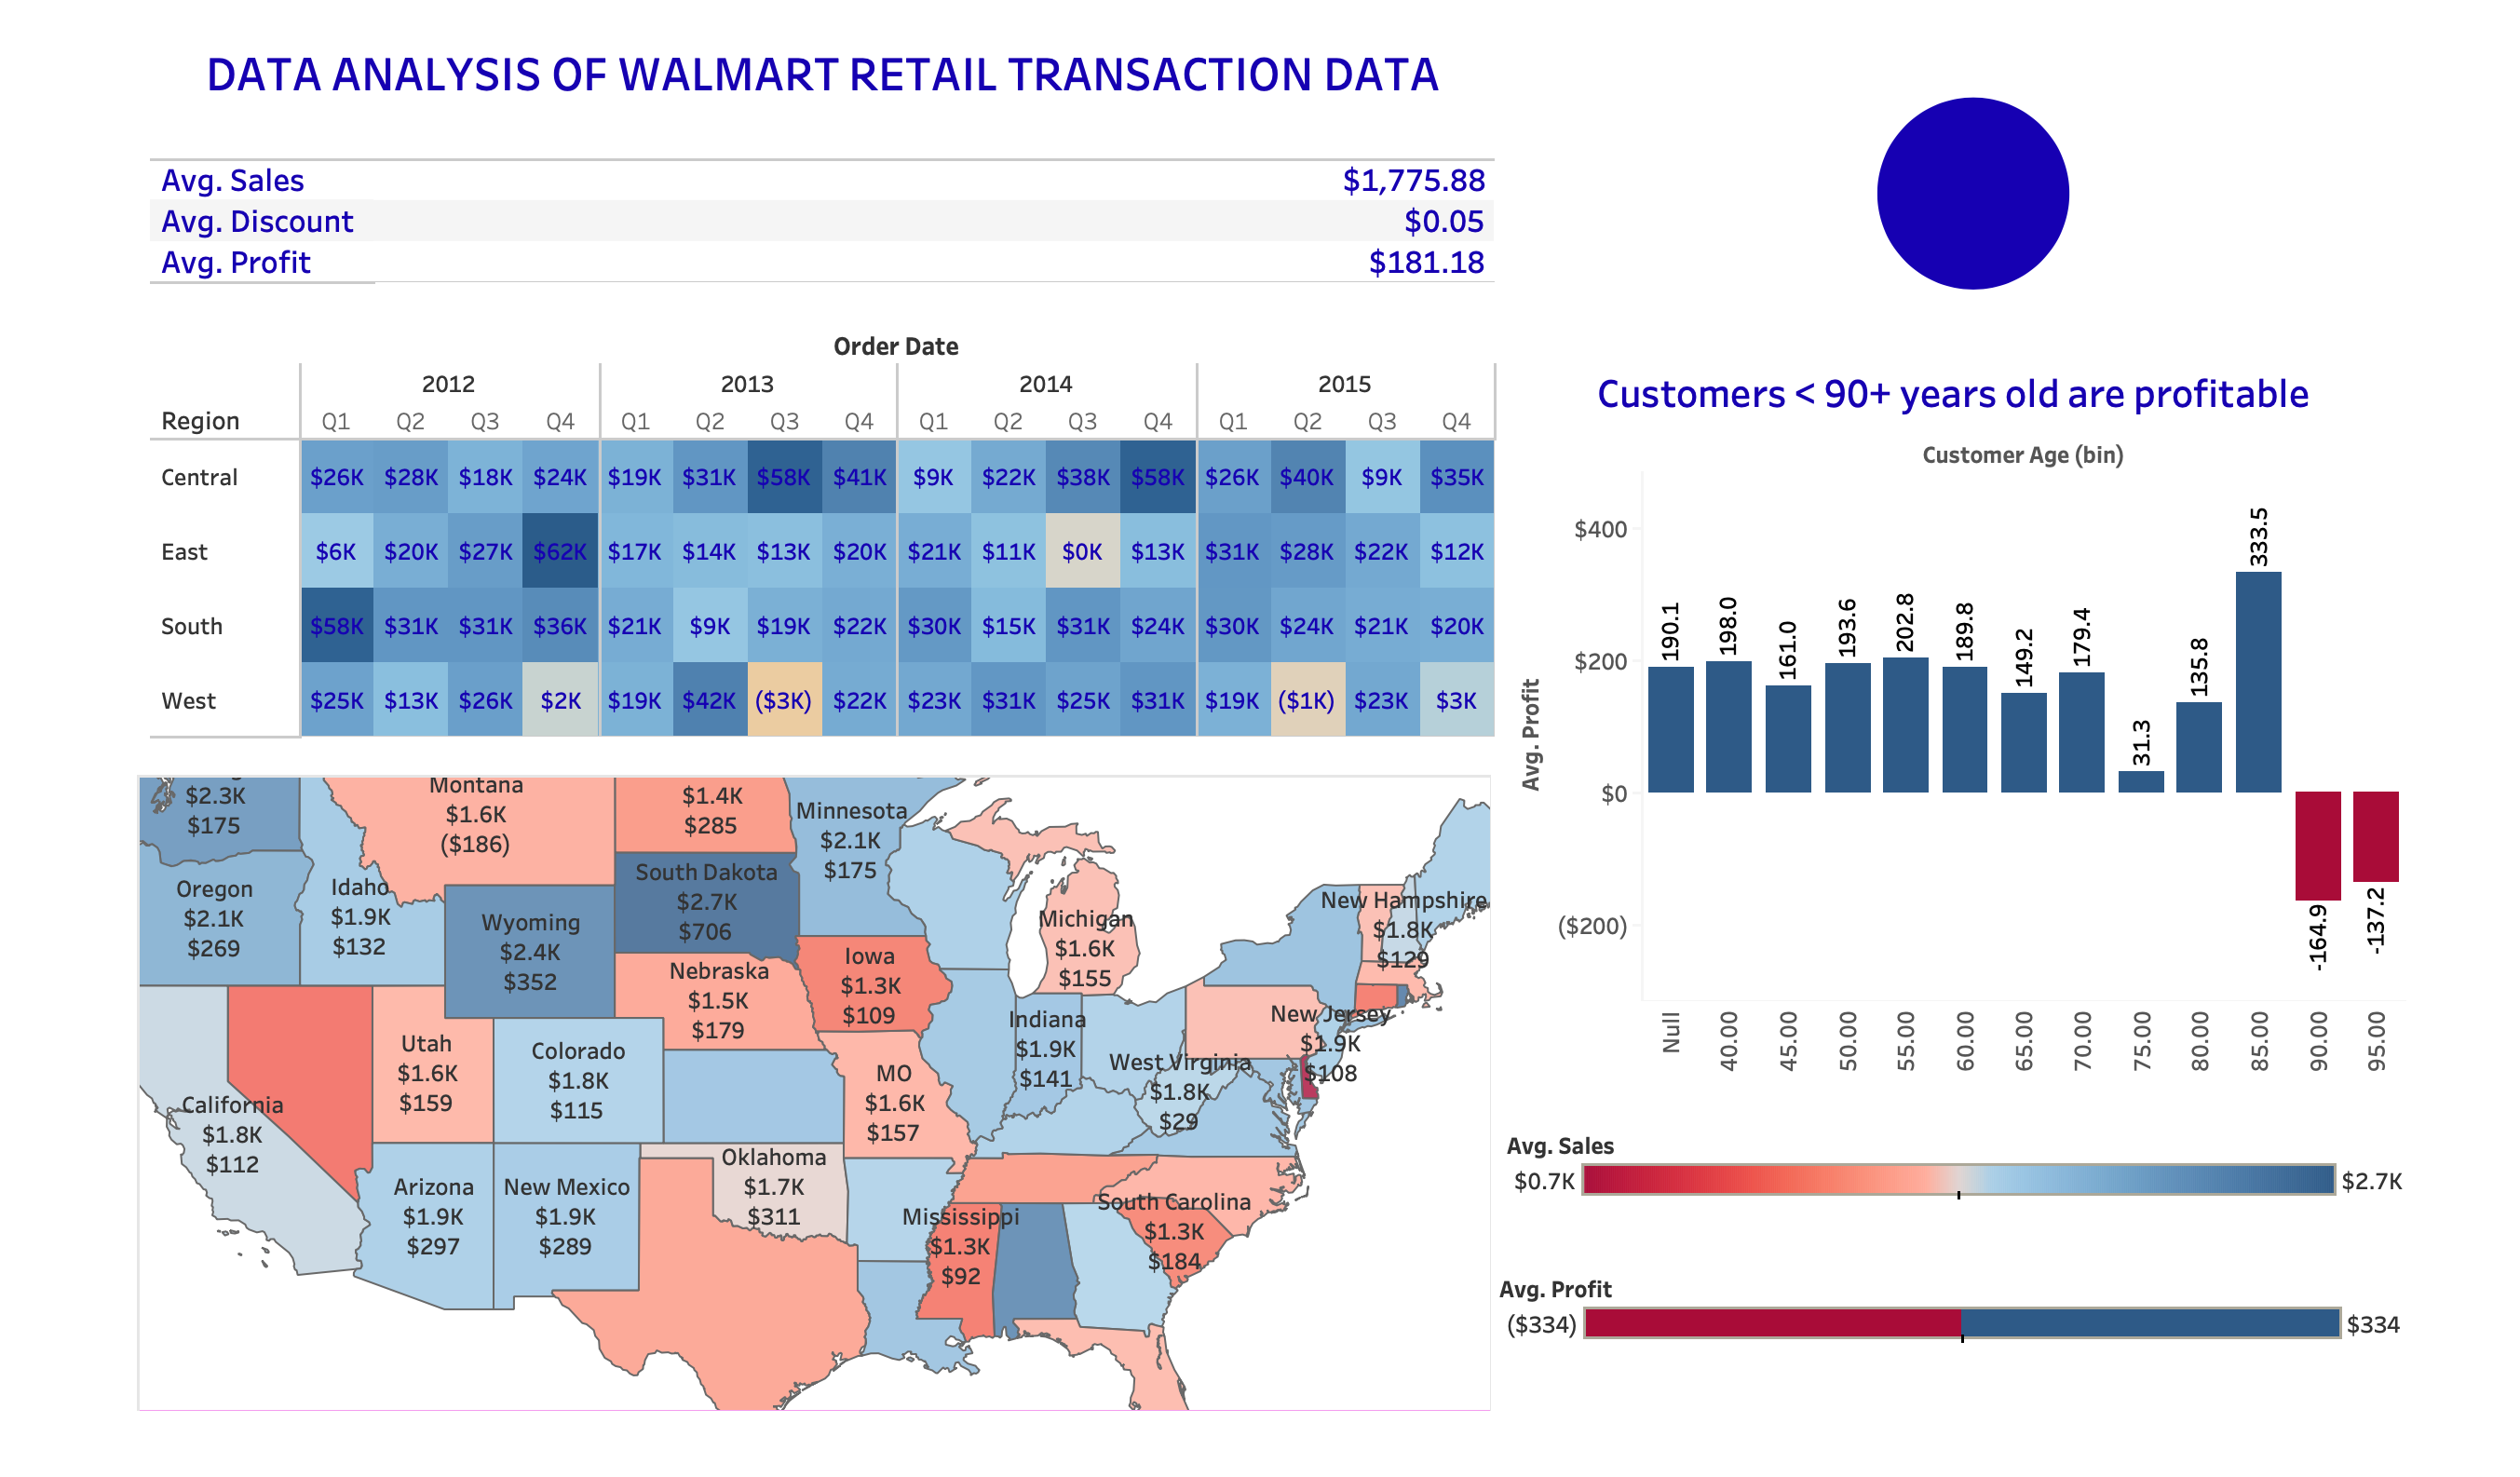

What the dashboard file says about the page in this screenshot:
{"tool":"tableau","page":{"name":"Dashboard 1","canvas":[1000,1000],"units":"permille","ordinal":0},"visuals":[{"type":"title","box":[6.5,10.6,594.5,74.2]},{"type":"worksheet","title":"DataInfo","mark":"Shape","box":[620.8,22.5,371,202.7]},{"type":"worksheet","title":"AverageMetrics","mark":"Automatic","box":[6.5,84.8,594.5,119.2]},{"type":"worksheet","title":"RegQuartProfit","mark":"Square","rows":["Region"],"cols":["Order Date","Order Date"],"box":[6.5,204,594.5,331.1]},{"type":"worksheet","title":"Chart3:Age V Avg Profit ","mark":"Bar","rows":["Profit"],"cols":["Customer Age (bin)"],"box":[600.5,249,395.4,512.6]},{"type":"legend","title":"Chart1:SalesProfit V State","param":"[federated.1odilyr0hvz05o1gj3nb11v1wf15].[avg:Sales:qk]","box":[602.9,794.7,395.4,100.7]},{"type":"legend","title":"Chart3:Age V Avg Profit ","param":"[federated.1odilyr0hvz05o1gj3nb11v1wf15].[avg:Profit:qk]","box":[599.7,896.7,397.9,100.7]}]}

Visuals, with their boxes on the dashboard's canvas, which has no fixed pixel size, in thousandths of its width and height (x1, y1, x2, y2). These are canvas units, not pixel positions in the 2520x1477 screenshot, which may show the page scaled, cropped or inside an application window:
title: rect(6, 11, 601, 85)
"DataInfo" worksheet (Shape marks): rect(621, 22, 992, 225)
"AverageMetrics" worksheet: rect(6, 85, 601, 204)
"RegQuartProfit" worksheet (Square marks): rect(6, 204, 601, 535)
"Chart3:Age V Avg Profit " worksheet (Bar marks): rect(600, 249, 996, 762)
"Chart1:SalesProfit V State" legend: rect(603, 795, 998, 895)
"Chart3:Age V Avg Profit " legend: rect(600, 897, 998, 997)
